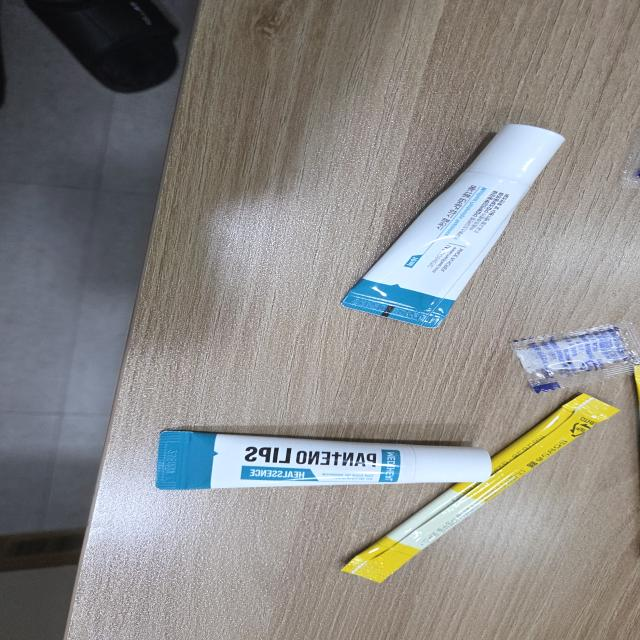lacto: (338, 392, 622, 582), (633, 364, 640, 426)
lib: (320, 121, 580, 329), (151, 430, 494, 492)
salt: (510, 322, 639, 393)
